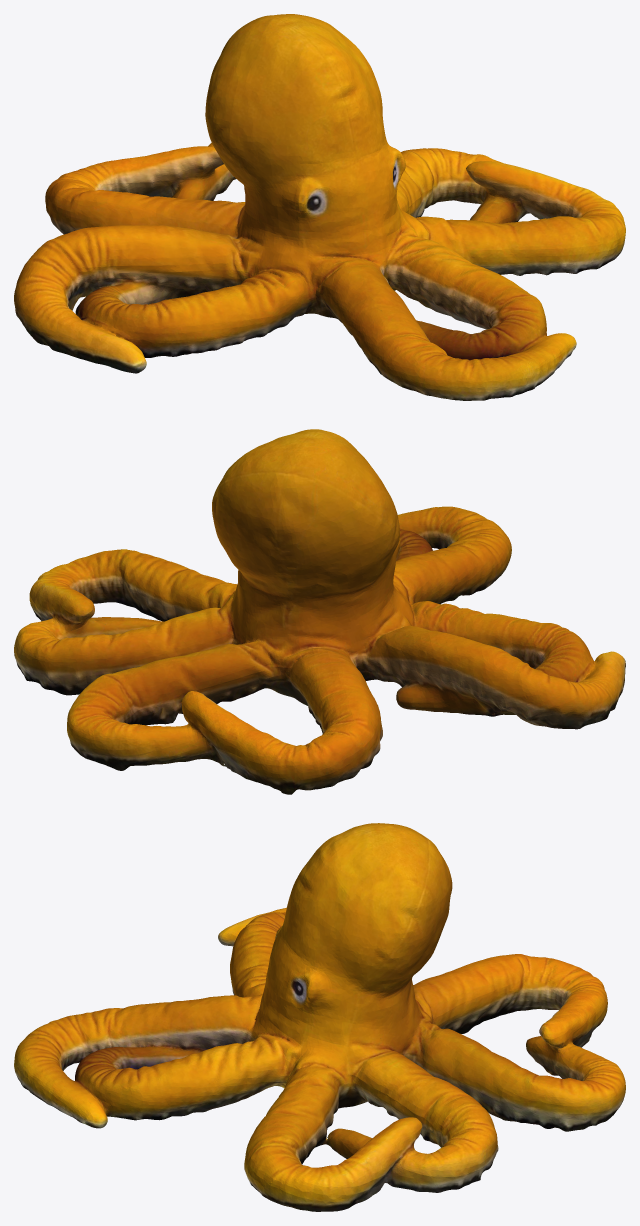
The model's file is octopus.glb.
3 renders of one model, top to bottom at view 1: azimuth 30°, elevation 25°; view 2: azimuth 150°, elevation 25°; view 3: azimuth 270°, elevation 25°, orthographic. The views are drawn at different scales.
Parts seen in each view (by area): view 1: Object_7, Object_6, Object_8, Object_2, Object_4, Object_5, Object_3; view 2: Object_5, Object_3, Object_6, Object_4, Object_7, Object_8, Object_2; view 3: Object_3, Object_5, Object_4, Object_6, Object_7, Object_2, Object_8.
Part boxes in pixels (x1,y1,x2,y2): Object_7: [108, 63, 562, 389]; Object_6: [49, 15, 576, 365]; Object_8: [30, 226, 535, 400]; Object_2: [14, 14, 616, 400]; Object_4: [138, 146, 625, 275]; Object_5: [46, 14, 625, 310]; Object_3: [46, 15, 519, 290]; Object_5: [48, 435, 356, 781]; Object_3: [197, 444, 333, 794]; Object_6: [284, 429, 411, 773]; Object_4: [14, 558, 246, 778]; Object_7: [356, 451, 483, 714]; Object_8: [433, 506, 548, 726]; Object_2: [26, 442, 625, 794]; Object_3: [203, 847, 607, 1115]; Object_5: [145, 831, 625, 1207]; Object_4: [249, 1004, 625, 1211]; Object_6: [58, 823, 551, 1128]; Object_7: [21, 926, 282, 1110]; Object_2: [22, 845, 595, 1211]; Object_8: [14, 937, 275, 1082].
Size of the model in its own units: 2.4 by 1.02 by 2.31.
Materials: 1 (1 with a texture image).
